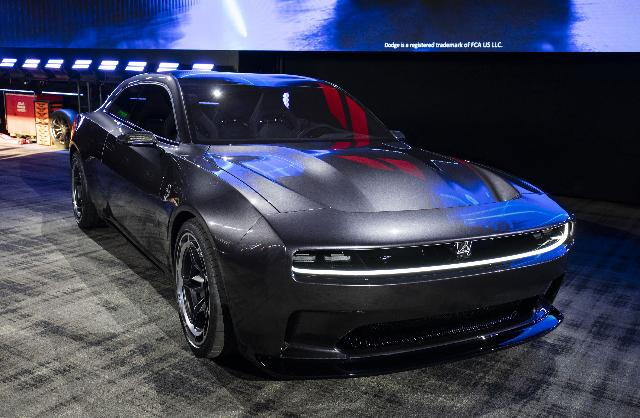dodge: (68, 70, 576, 378)
